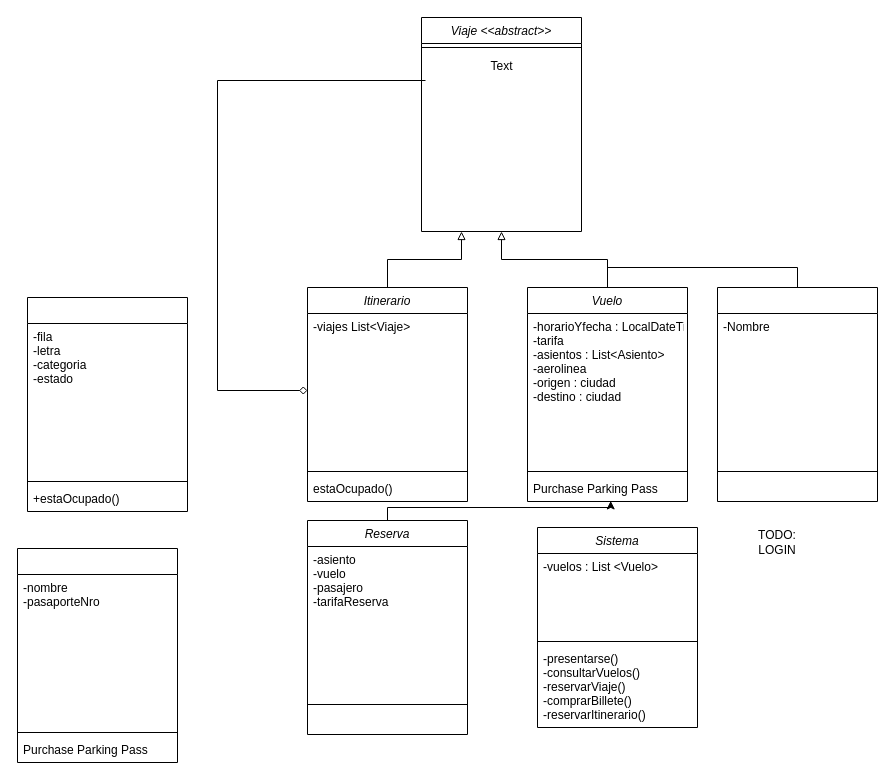
This 895x783 diagram has some shape labels left out. Each missing label, with the box of its shape:
Asiento: (26, 296, 188, 512)
Ciudad: (716, 286, 878, 502)
Pasajero: (16, 548, 178, 762)
